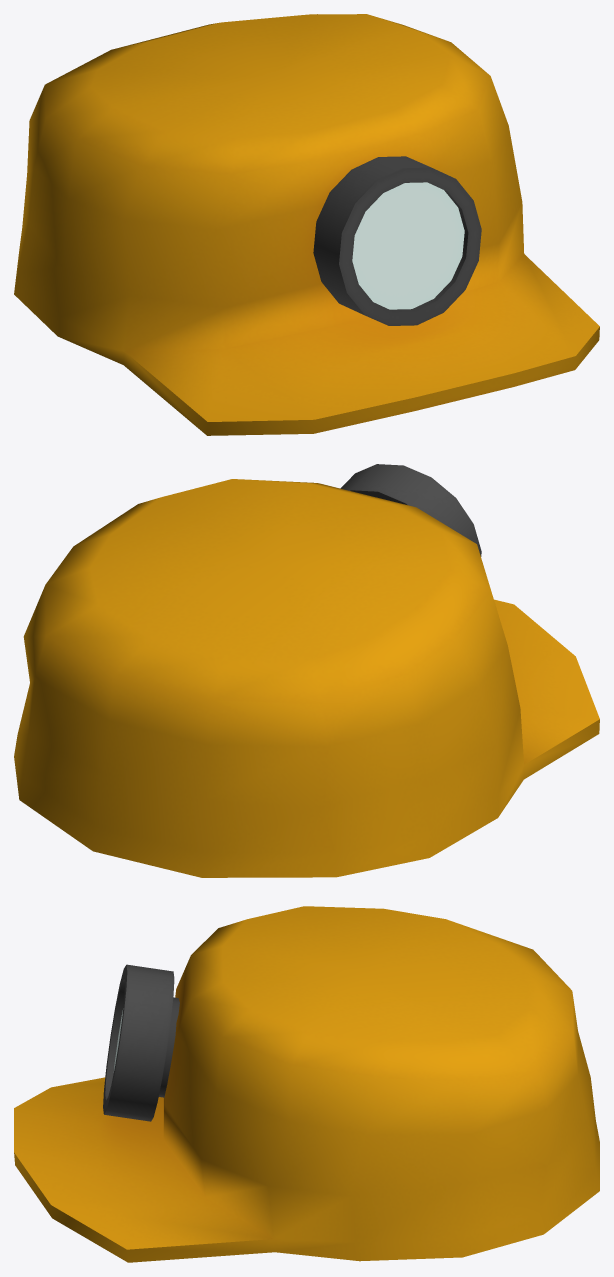
Rendered from imposterSkin09 hat.fbx.
The picture shows the model from 3 angles, top to bottom: view 1: azimuth 30°, elevation 25°; view 2: azimuth 150°, elevation 25°; view 3: azimuth 270°, elevation 25°; orthographic projection. The views are drawn at different scales.
Visible parts, largest first — view 1: imposterSkin09_hat_geo; view 2: imposterSkin09_hat_geo; view 3: imposterSkin09_hat_geo.
Boxes of the visible parts, left/top/right/bottom form: imposterSkin09_hat_geo: left=14, top=14, right=599, bottom=435; imposterSkin09_hat_geo: left=14, top=464, right=599, bottom=877; imposterSkin09_hat_geo: left=14, top=906, right=599, bottom=1262.
Size of the model in its own units: 2.27 by 1.13 by 2.84.
1 material, 1 textured.
